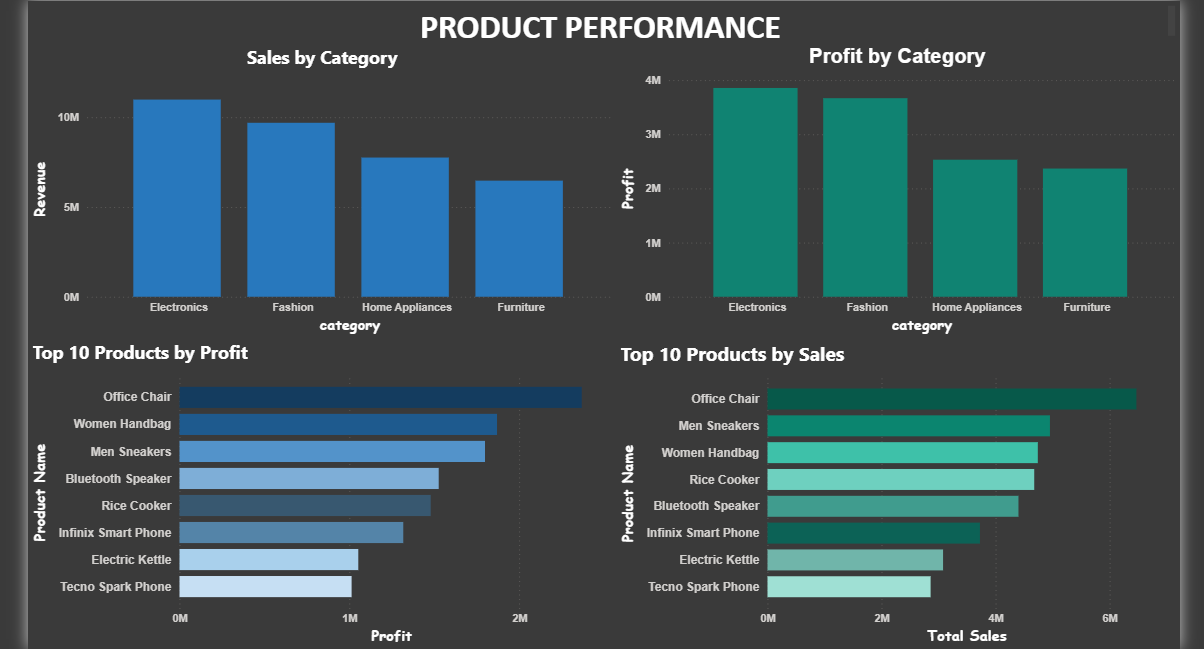

The page's visual inventory and layout, read from the dashboard file:
{"tool":"powerbi","page":{"name":"Product Performance","canvas":[1280,720],"ordinal":1},"visuals":[{"type":"clusteredColumnChart","title":"Sales by Category","fields":{"Category":["sales_summary_view.category"],"Y":["sales_summary_view.Total Sales"]},"box":[0,49.1,653.9,326.9],"z":0},{"type":"clusteredColumnChart","title":"Profit by Category","fields":{"Category":["sales_summary_view.category"],"Y":["sales_summary_view.Total Profit"]},"box":[653.9,49.1,625.5,326.9],"z":1000},{"type":"clusteredBarChart","title":"Top 10 Products by Sales","fields":{"Category":["sales_summary_view.product_name"],"Y":["sales_summary_view.Total Sales"]},"box":[653.9,376.1,625.5,343.9],"z":2000},{"type":"clusteredBarChart","title":"Top 10 Products by Profit","fields":{"Category":["sales_summary_view.product_name"],"Y":["sales_summary_view.Total Profit"]},"box":[0,376.1,653.9,343.9],"z":3000},{"type":"textbox","box":[0,0,1279.4,49.1],"z":4000},{"type":"slicer","fields":{"Values":["sales_summary_view.order_year","sales_summary_view.region","sales_summary_view.category","sales_summary_view.segment","sales_summary_view.sales_channel","sales_summary_view.order_status"]},"box":[417.6,151.2,404.4,240],"z":5000}]}

Visuals, with their boxes on the page's 1280x720 design canvas (x1, y1, x2, y2). These are canvas units, not pixel positions in the 1204x649 screenshot, which may show the page scaled, cropped or inside an application window:
"Sales by Category" clusteredColumnChart: bbox=(0, 49, 654, 376)
"Profit by Category" clusteredColumnChart: bbox=(654, 49, 1279, 376)
"Top 10 Products by Sales" clusteredBarChart: bbox=(654, 376, 1279, 720)
"Top 10 Products by Profit" clusteredBarChart: bbox=(0, 376, 654, 720)
textbox: bbox=(0, 0, 1279, 49)
slicer - sales_summary_view.order_year x sales_summary_view.region: bbox=(418, 151, 822, 391)
